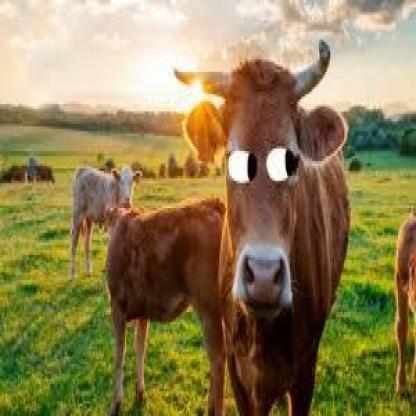cow: (183, 64, 351, 416), (105, 203, 230, 416), (69, 163, 140, 278), (395, 203, 416, 394), (35, 162, 55, 185)
